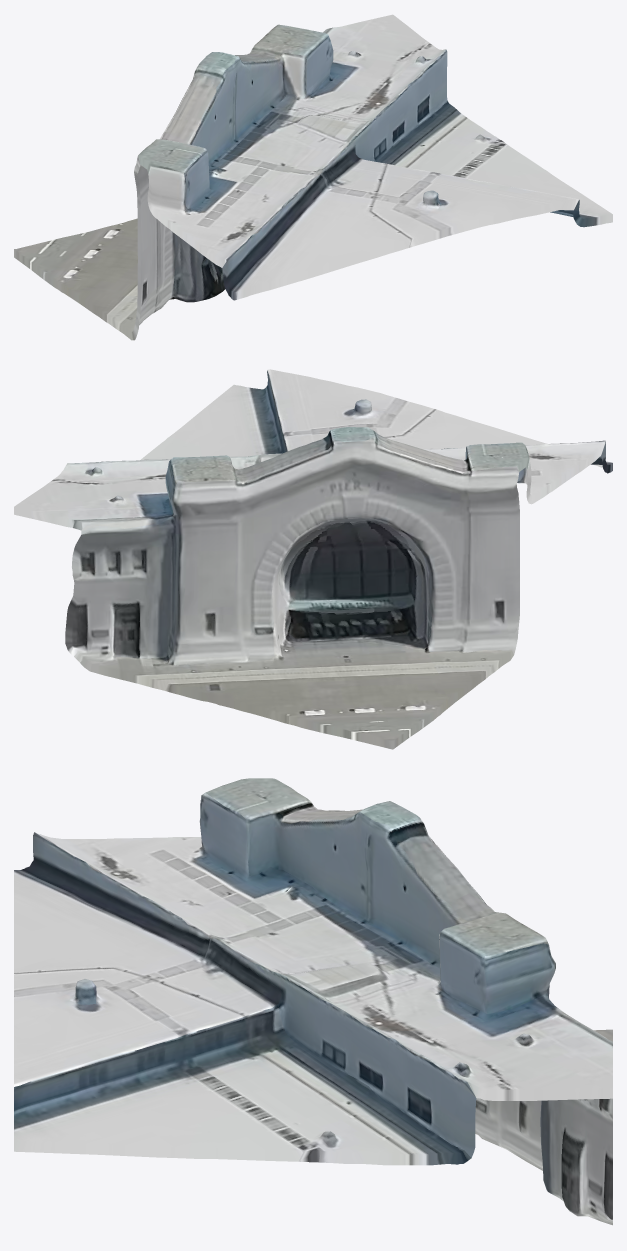
Rendered from z20-167786-405215-h0-yup-uvflip-v3-world.glb.
3 views of the same model, one above another, from view 1: azimuth 30°, elevation 25°; view 2: azimuth 150°, elevation 25°; view 3: azimuth 270°, elevation 25° (orthographic). The views are drawn at different scales.
Size of the model in its own units: 30.16 by 17.32 by 30.32.
Materials: 1 (1 with a texture image).
